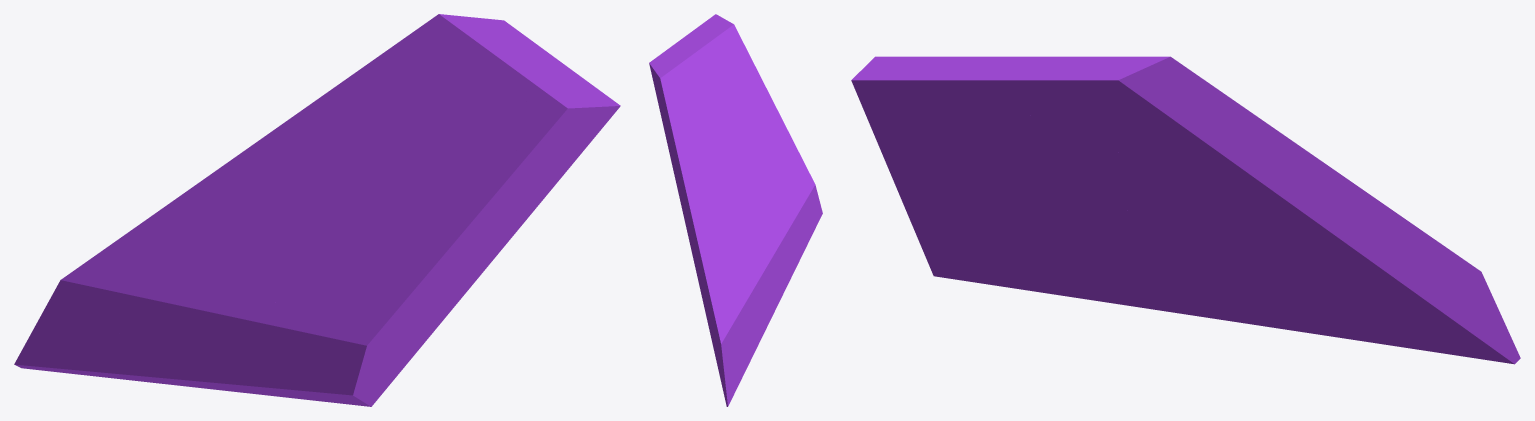
File: Window_67_2_chunks.fbx
3 views of the same model, side by side, from view 1: azimuth 30°, elevation 25°; view 2: azimuth 150°, elevation 25°; view 3: azimuth 270°, elevation 25° (orthographic). The views are drawn at different scales.
Parts seen in each view (by area): view 1: Window_67_2_1, Window_67_2_0, Window_67_2_4, Window_67_2_9, Window_67_2_7, Window_67_2_5, Window_67_2_2, Window_67_2_6, Window_67_2_8, Window_67_2_3; view 2: Window_67_2_1, Window_67_2_4, Window_67_2_9, Window_67_2_7, Window_67_2_2, Window_67_2_6, Window_67_2_5, Window_67_2_8, Window_67_2_0, Window_67_2_3; view 3: Window_67_2_0, Window_67_2_4, Window_67_2_9, Window_67_2_8, Window_67_2_7, Window_67_2_3, Window_67_2_2, Window_67_2_5.
Boxes of the visible parts, x1,y1,x2,y2 form: Window_67_2_1: [266, 195, 441, 389]; Window_67_2_0: [276, 149, 584, 406]; Window_67_2_4: [14, 170, 216, 378]; Window_67_2_9: [347, 14, 568, 133]; Window_67_2_7: [265, 79, 403, 222]; Window_67_2_5: [101, 258, 237, 388]; Window_67_2_2: [208, 136, 309, 287]; Window_67_2_6: [385, 78, 530, 206]; Window_67_2_8: [513, 67, 620, 168]; Window_67_2_3: [207, 283, 283, 396]; Window_67_2_1: [741, 113, 818, 258]; Window_67_2_4: [688, 234, 752, 406]; Window_67_2_9: [649, 36, 714, 145]; Window_67_2_7: [668, 122, 747, 206]; Window_67_2_2: [681, 192, 766, 256]; Window_67_2_6: [710, 40, 753, 146]; Window_67_2_5: [739, 246, 783, 356]; Window_67_2_8: [686, 14, 753, 66]; Window_67_2_0: [753, 64, 822, 248]; Window_67_2_3: [760, 219, 800, 292]; Window_67_2_0: [863, 109, 1146, 298]; Window_67_2_4: [1247, 183, 1520, 364]; Window_67_2_9: [968, 56, 1245, 153]; Window_67_2_8: [851, 56, 1097, 183]; Window_67_2_7: [1058, 109, 1313, 217]; Window_67_2_3: [1085, 231, 1254, 317]; Window_67_2_2: [1137, 156, 1352, 256]; Window_67_2_5: [1207, 286, 1351, 339].
Size of the model in its own units: 517 by 628 by 835.
